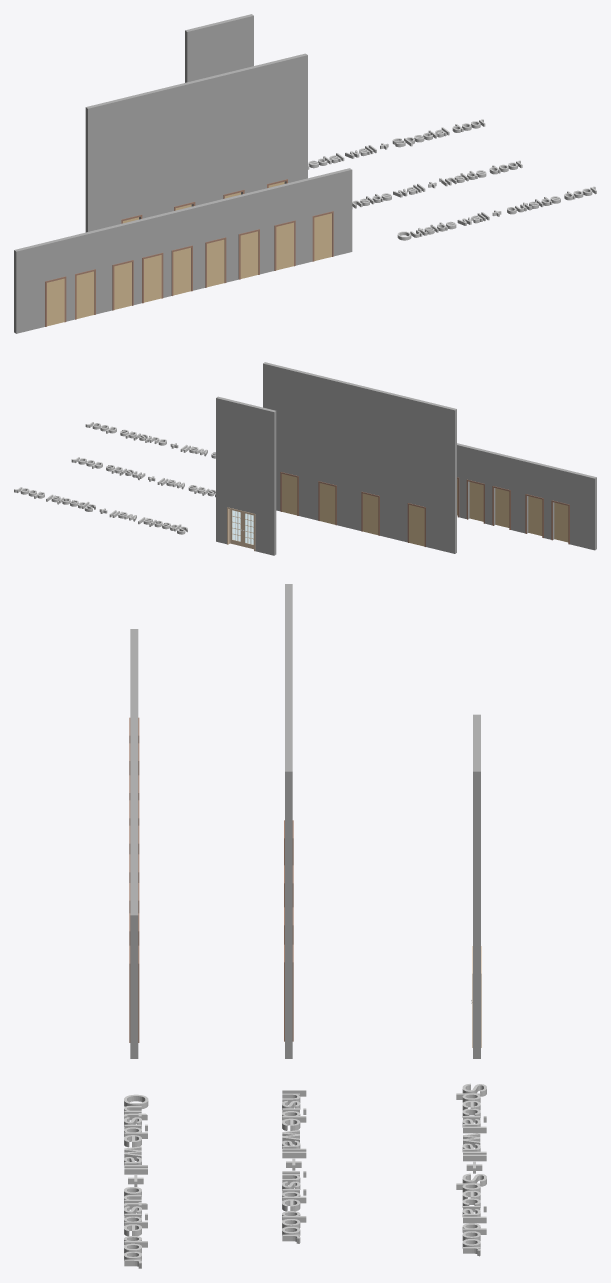
The model's file is ManySimpleWalls.glb.
The picture shows the model from 3 angles, top to bottom: view 1: azimuth 30°, elevation 25°; view 2: azimuth 150°, elevation 25°; view 3: azimuth 270°, elevation 25°; orthographic projection. The views are drawn at different scales.
Parts seen in each view (by area): view 1: product-eb0c7952-fe2a-4b21-84f1-3ce182741bb1-body, product-4f1b8c13-1511-4092-8543-2812b6fba770-body, product-eb0c7952-fe2a-4b21-84f1-3ce18274187e-body, product-10422595-9ee4-4c20-ac53-33902f0b6f87-body, product-10422595-9ee4-4c20-ac53-33902f0b6f85-body, product-10422595-9ee4-4c20-ac53-33902f0b6f86-body, product-eb0c7952-fe2a-4b21-84f1-3ce182741ab7-body, product-eb0c7952-fe2a-4b21-84f1-3ce182741a7f-body, product-eb0c7952-fe2a-4b21-84f1-3ce182741a1a-body, product-eb0c7952-fe2a-4b21-84f1-3ce182741aee-body, product-4f1b8c13-1511-4092-8543-2812b6fba78f-body, product-eb0c7952-fe2a-4b21-84f1-3ce182741aae-body (+3 smaller); view 2: product-eb0c7952-fe2a-4b21-84f1-3ce182741bb1-body, product-eb0c7952-fe2a-4b21-84f1-3ce18274187e-body, product-4f1b8c13-1511-4092-8543-2812b6fba770-body, product-10422595-9ee4-4c20-ac53-33902f0b6f85-body, product-eb0c7952-fe2a-4b21-84f1-3ce182743695-body, product-10422595-9ee4-4c20-ac53-33902f0b6f86-body, product-10422595-9ee4-4c20-ac53-33902f0b6f87-body, product-eb0c7952-fe2a-4b21-84f1-3ce1827418f9-body, product-eb0c7952-fe2a-4b21-84f1-3ce182741898-body, product-eb0c7952-fe2a-4b21-84f1-3ce182741b22-body, product-eb0c7952-fe2a-4b21-84f1-3ce1827418b7-body, product-4f1b8c13-1511-4092-8543-2812b6fba78f-body (+3 smaller); view 3: product-4f1b8c13-1511-4092-8543-2812b6fba770-body, product-eb0c7952-fe2a-4b21-84f1-3ce182741bb1-body, product-10422595-9ee4-4c20-ac53-33902f0b6f85-body, product-10422595-9ee4-4c20-ac53-33902f0b6f87-body, product-10422595-9ee4-4c20-ac53-33902f0b6f86-body, product-eb0c7952-fe2a-4b21-84f1-3ce18274187e-body.
Part boxes in pixels (x1,y1,x2,y2): product-eb0c7952-fe2a-4b21-84f1-3ce182741bb1-body: (85, 53, 307, 232); product-4f1b8c13-1511-4092-8543-2812b6fba770-body: (14, 168, 352, 333); product-eb0c7952-fe2a-4b21-84f1-3ce18274187e-body: (185, 14, 253, 82); product-10422595-9ee4-4c20-ac53-33902f0b6f87-body: (397, 186, 596, 240); product-10422595-9ee4-4c20-ac53-33902f0b6f85-body: (308, 119, 485, 169); product-10422595-9ee4-4c20-ac53-33902f0b6f86-body: (352, 160, 522, 208); product-eb0c7952-fe2a-4b21-84f1-3ce182741ab7-body: (142, 252, 163, 303); product-eb0c7952-fe2a-4b21-84f1-3ce182741a7f-body: (274, 220, 295, 270); product-eb0c7952-fe2a-4b21-84f1-3ce182741a1a-body: (312, 211, 333, 261); product-eb0c7952-fe2a-4b21-84f1-3ce182741aee-body: (112, 260, 133, 310); product-4f1b8c13-1511-4092-8543-2812b6fba78f-body: (45, 276, 66, 326); product-eb0c7952-fe2a-4b21-84f1-3ce182741aae-body: (238, 229, 259, 279); product-eb0c7952-fe2a-4b21-84f1-3ce182741bb1-body: (263, 362, 456, 553); product-eb0c7952-fe2a-4b21-84f1-3ce18274187e-body: (216, 396, 276, 555); product-4f1b8c13-1511-4092-8543-2812b6fba770-body: (457, 443, 596, 550); product-10422595-9ee4-4c20-ac53-33902f0b6f85-body: (14, 487, 187, 534); product-eb0c7952-fe2a-4b21-84f1-3ce182743695-body: (227, 507, 255, 551); product-10422595-9ee4-4c20-ac53-33902f0b6f86-body: (71, 457, 215, 497); product-10422595-9ee4-4c20-ac53-33902f0b6f87-body: (85, 422, 215, 458); product-eb0c7952-fe2a-4b21-84f1-3ce1827418f9-body: (318, 481, 336, 525); product-eb0c7952-fe2a-4b21-84f1-3ce182741898-body: (361, 491, 379, 535); product-eb0c7952-fe2a-4b21-84f1-3ce182741b22-body: (280, 472, 298, 515); product-eb0c7952-fe2a-4b21-84f1-3ce1827418b7-body: (407, 503, 425, 546); product-4f1b8c13-1511-4092-8543-2812b6fba78f-body: (551, 500, 569, 544); product-4f1b8c13-1511-4092-8543-2812b6fba770-body: (130, 629, 138, 1058); product-eb0c7952-fe2a-4b21-84f1-3ce182741bb1-body: (285, 584, 292, 1058); product-10422595-9ee4-4c20-ac53-33902f0b6f85-body: (456, 1083, 486, 1256); product-10422595-9ee4-4c20-ac53-33902f0b6f87-body: (124, 1094, 148, 1268); product-10422595-9ee4-4c20-ac53-33902f0b6f86-body: (282, 1090, 306, 1243); product-eb0c7952-fe2a-4b21-84f1-3ce18274187e-body: (473, 714, 480, 1058).
Size of the model in its own units: 29.63 by 8 by 9.17.
